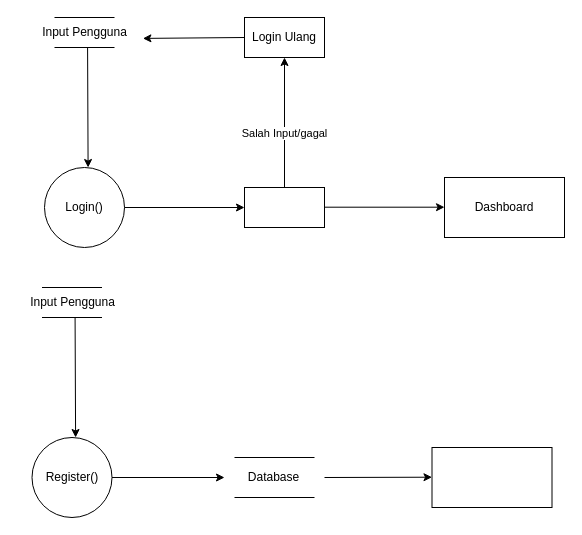
The diagram is 582 pixels wide and 535 high, and some of its shapes have lost their labels. Here are the shapes that lost their labels. From the top down, the centre of each, then its label:
At point (284, 207): "Verifikasi".
At point (491, 477): "Login".
